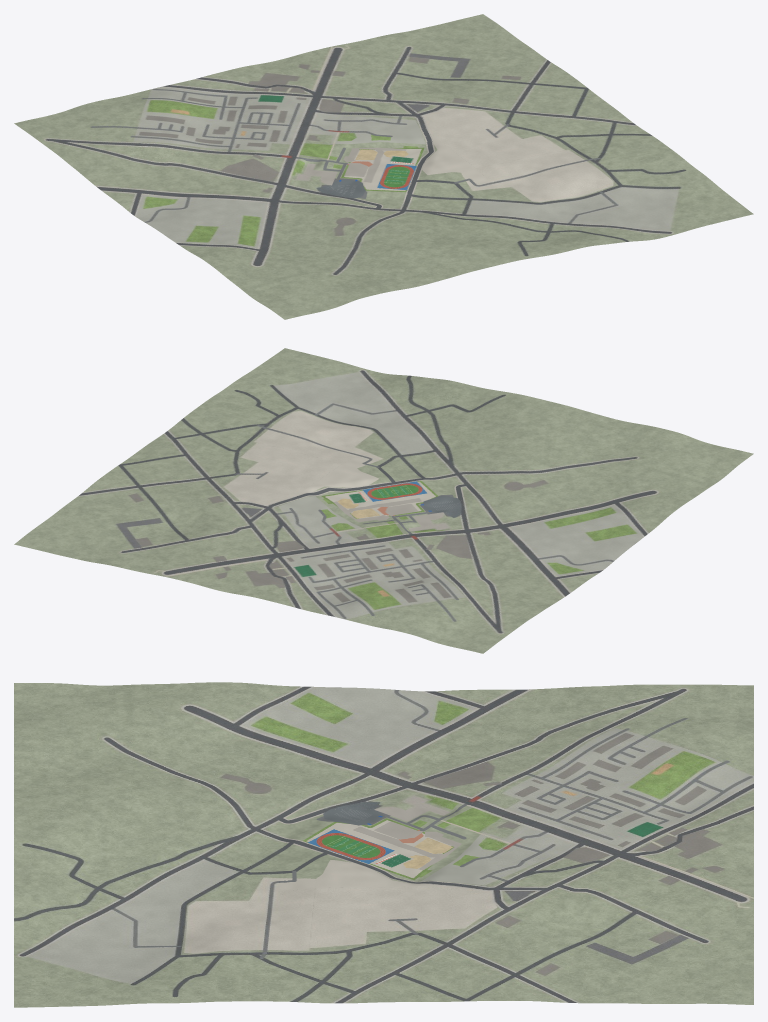
3 views of the same model, one above another, from view 1: azimuth 30°, elevation 25°; view 2: azimuth 150°, elevation 25°; view 3: azimuth 270°, elevation 25° (orthographic). The views are drawn at different scales.
Parts seen in each view (by area): view 1: ground-area, ground-school; view 2: ground-area, ground-school; view 3: ground-area, ground-school.
Boxes of the visible parts, x1=… form: ground-area: x1=14, y1=14, x2=753, y2=319; ground-school: x1=291, y1=121, x2=488, y2=210; ground-area: x1=14, y1=348, x2=753, y2=653; ground-school: x1=281, y1=456, x2=479, y2=537; ground-area: x1=14, y1=682, x2=753, y2=1007; ground-school: x1=278, y1=803, x2=481, y2=891.
Size of the model in its own units: 784 by 21.9 by 784.
2 materials, 2 textured.
